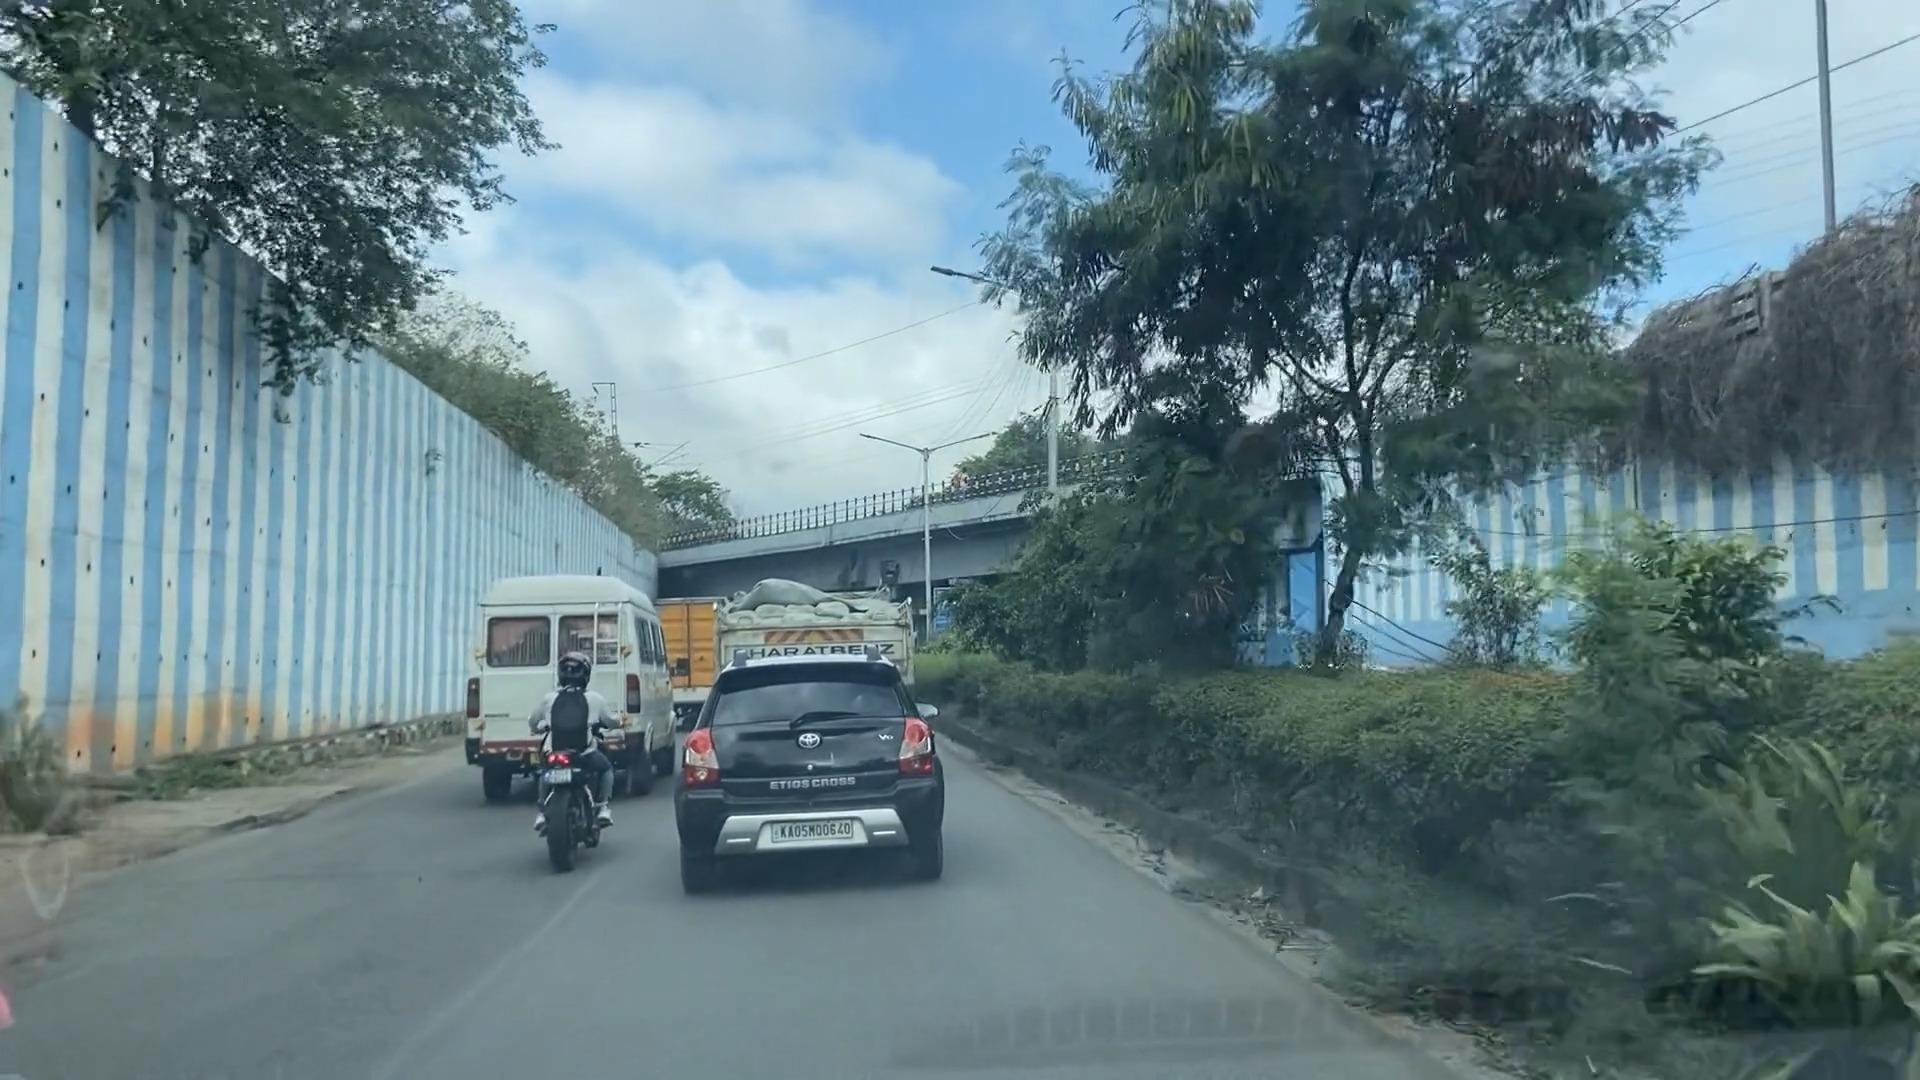HMV: (472, 579, 674, 800)
LMV: (670, 666, 951, 899), (514, 633, 615, 882)
